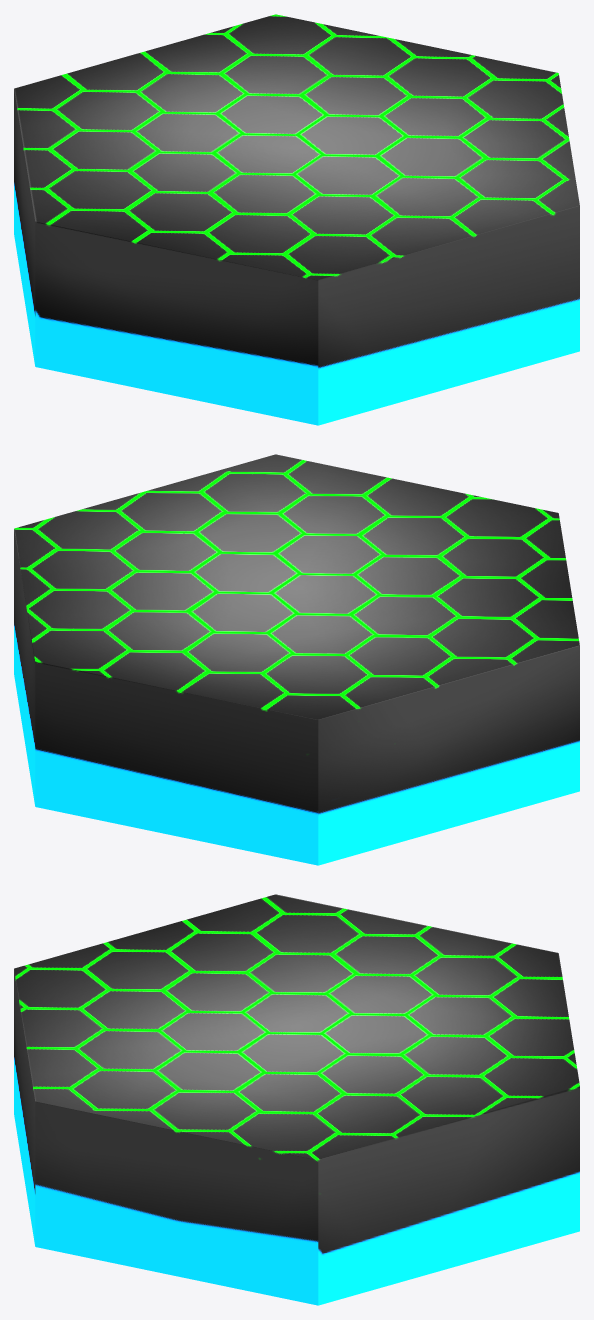
The model's file is plataforma torre.fbx.
3 renders of one model, top to bottom at view 1: azimuth 30°, elevation 25°; view 2: azimuth 150°, elevation 25°; view 3: azimuth 270°, elevation 25°, orthographic.
Parts seen in each view (by area): view 1: pCylinder3; view 2: pCylinder3; view 3: pCylinder3.
Part boxes in pixels (left/top/right/bottom): pCylinder3: left=14, top=14, right=579, bottom=425; pCylinder3: left=14, top=454, right=579, bottom=865; pCylinder3: left=14, top=894, right=579, bottom=1305.
Bounding box in the file's own units: 4.52 × 1.15 × 4.07.
1 material, 1 textured.
